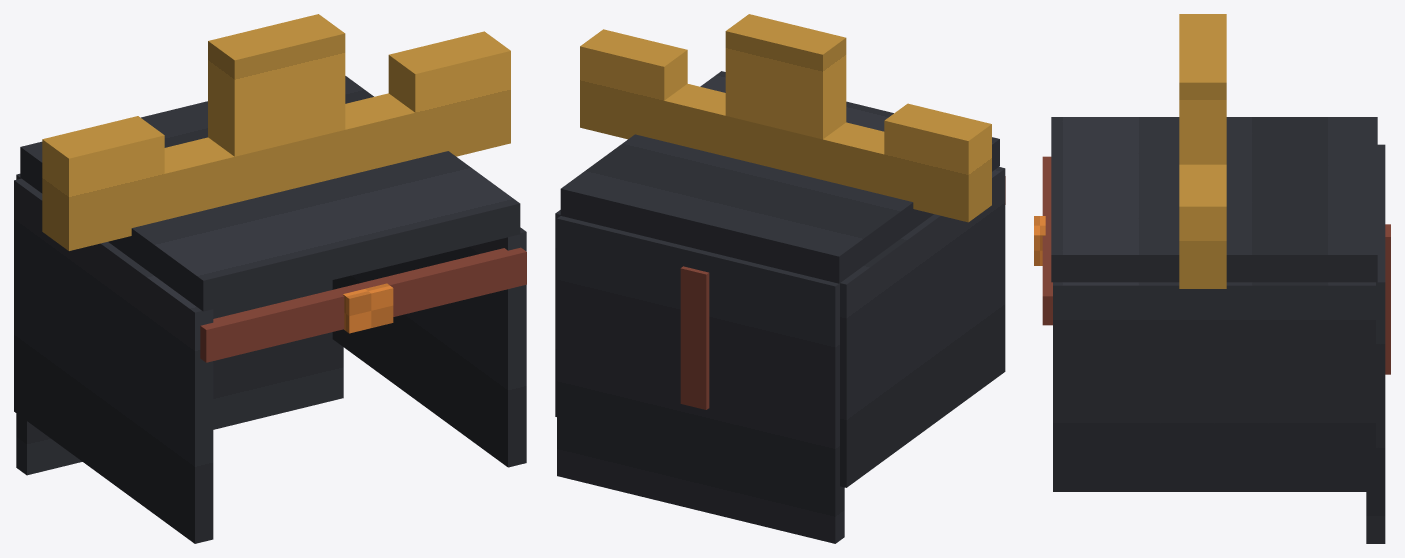
Rendered from jindan_jinwu_helmet.obj.
The picture shows the model from 3 angles, left to right: view 1: azimuth 30°, elevation 25°; view 2: azimuth 150°, elevation 25°; view 3: azimuth 270°, elevation 25°; orthographic projection. The views are drawn at different scales.
Parts seen in each view (by area): view 1: fusang_crown, cap_side_-1, cap_top, cap_side_1, cap_back, cap_brow, brow_seed; view 2: cap_back, fusang_crown, cap_side_-1, cap_top, cap_rear_mark; view 3: cap_side_1, cap_top, fusang_crown, cap_back, cap_brow, cap_rear_mark, brow_seed.
Part boxes in pixels (x1,y1,x2,y2): fusang_crown: (42,14,510,250); cap_side_-1: (14,178,213,543); cap_top: (20,76,520,311); cap_side_1: (332,227,526,467); cap_back: (16,173,343,475); cap_brow: (200,247,526,362); brow_seed: (343,283,393,333); cap_back: (557,216,844,543); fusang_crown: (580,14,991,222); cap_side_-1: (840,167,1005,487); cap_top: (560,71,999,283); cap_rear_mark: (680,266,709,409); cap_side_1: (1053,282,1375,491); cap_top: (1051,117,1377,282); fusang_crown: (1179,14,1226,288); cap_back: (1366,144,1385,543); cap_brow: (1042,156,1052,325); cap_rear_mark: (1385,224,1390,374); brow_seed: (1034,216,1045,265).
Size of the model in its own units: 0.75 by 0.7563 by 0.5872.
